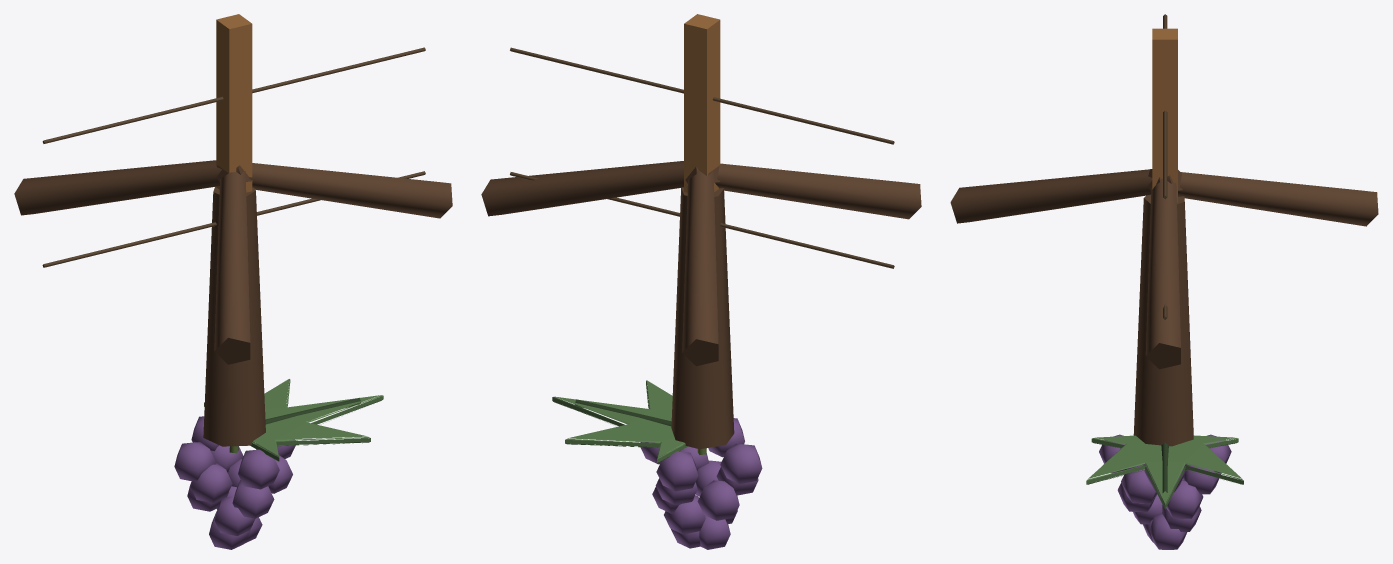
The model's file is grape.glb.
The picture shows the model from 3 angles, left to right: view 1: azimuth 30°, elevation 25°; view 2: azimuth 150°, elevation 25°; view 3: azimuth 270°, elevation 25°; orthographic projection. The views are drawn at different scales.
Visible parts, largest first — view 1: plant.crop-grape; view 2: plant.crop-grape; view 3: plant.crop-grape.
Boxes of the visible parts, left/top/right/bottom form: plant.crop-grape: left=14, top=14, right=452, bottom=549; plant.crop-grape: left=481, top=14, right=921, bottom=549; plant.crop-grape: left=950, top=14, right=1378, bottom=549.
Bounding box in the file's own units: 1.59 × 1.97 × 1.49.
